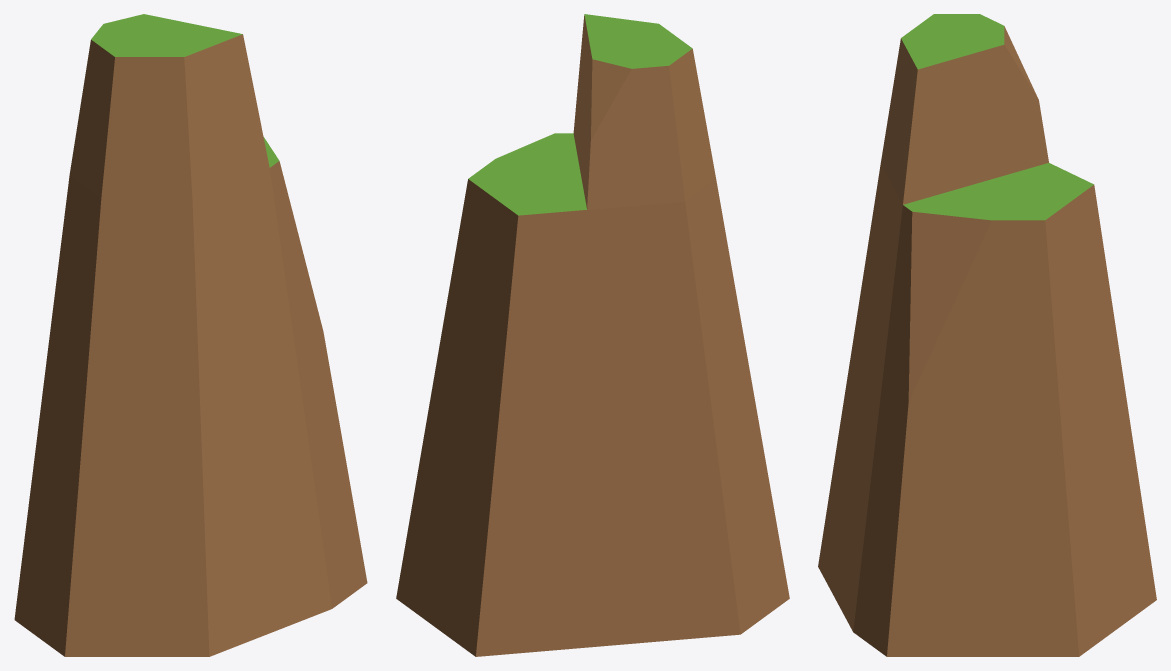
File: rock_tallI.glb
3 views of the same model, side by side, from view 1: azimuth 30°, elevation 25°; view 2: azimuth 150°, elevation 25°; view 3: azimuth 270°, elevation 25° (orthographic). The views are drawn at different scales.
Visible parts, largest first — view 1: rock_tallI; view 2: rock_tallI; view 3: rock_tallI.
Boxes of the visible parts, x1=… form: rock_tallI: x1=14, y1=14, x2=367, y2=656; rock_tallI: x1=396, y1=14, x2=789, y2=656; rock_tallI: x1=818, y1=14, x2=1156, y2=656.
Bounding box in the file's own units: 0.4562 × 0.8118 × 0.4644.
